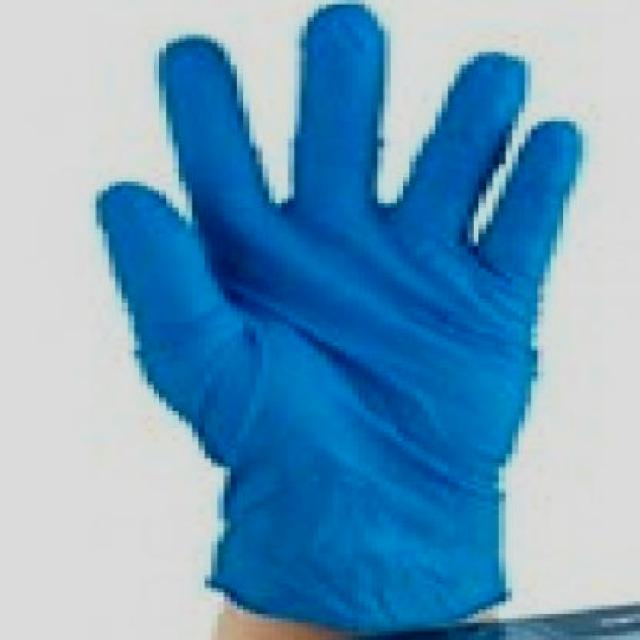glove: (88, 3, 583, 637)
